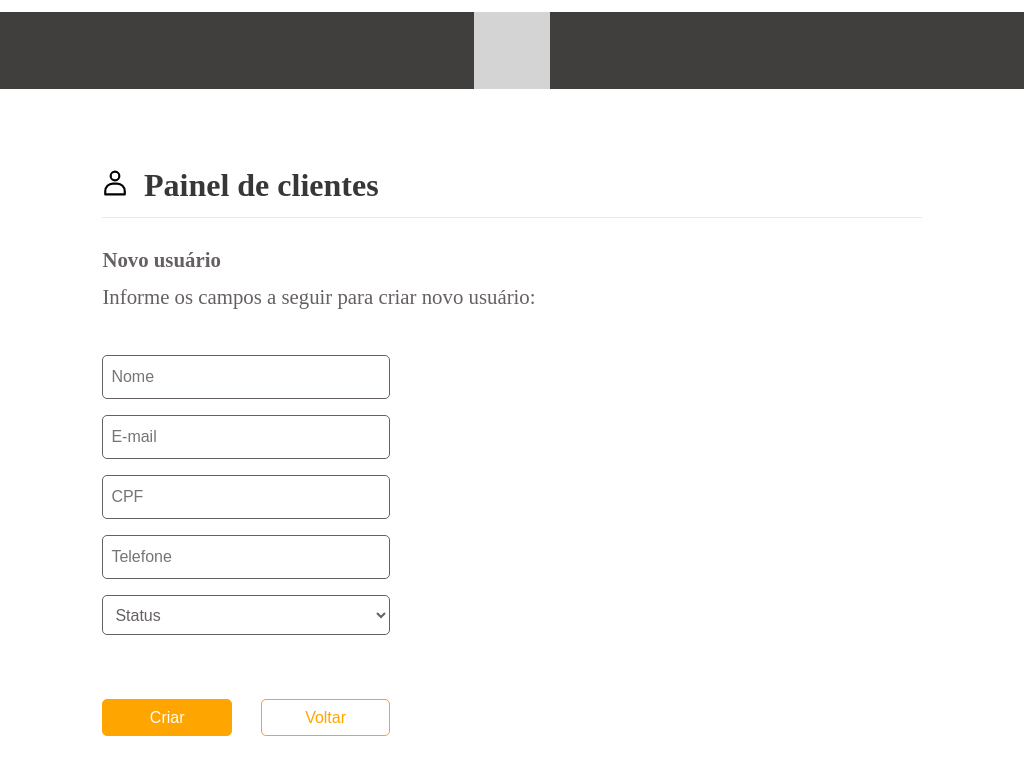
Scenario: Testando a página de criar usuário › Testa se o botão de voltar funciona corretamente
What coordinates should you click on to do the following:
click the button "Voltar"
I would click on:
 (326, 718)
Its box is [261,699,390,736].
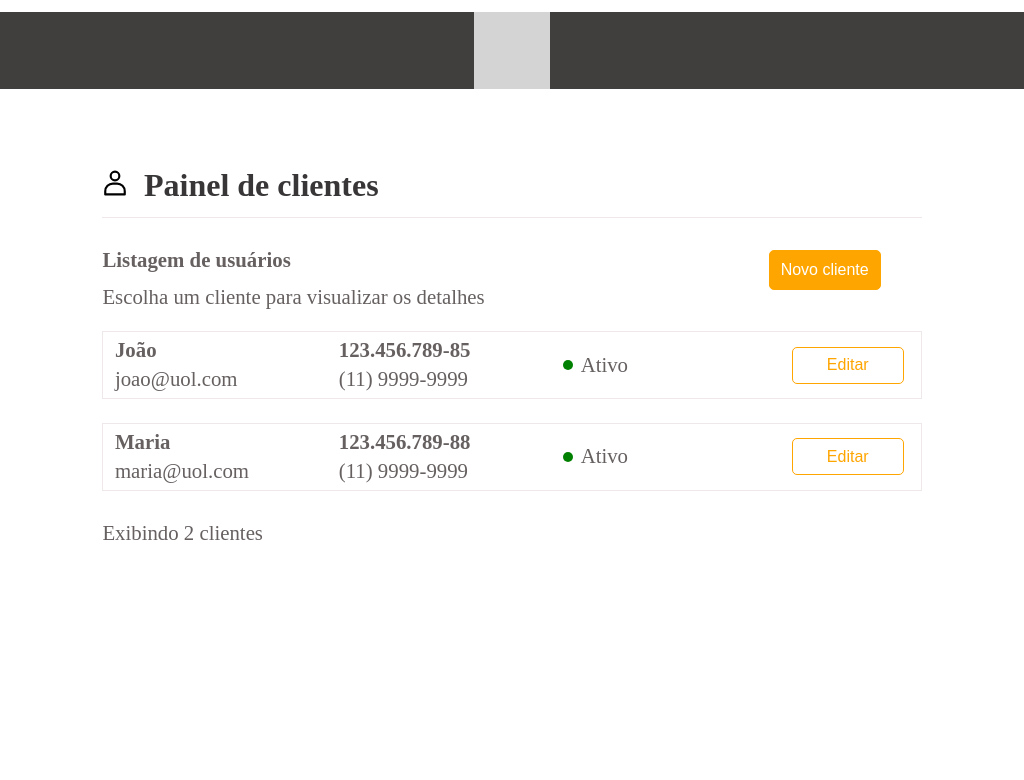
Expected: the heading "Listagem de usuários" is shown, [102,248,291,271]
